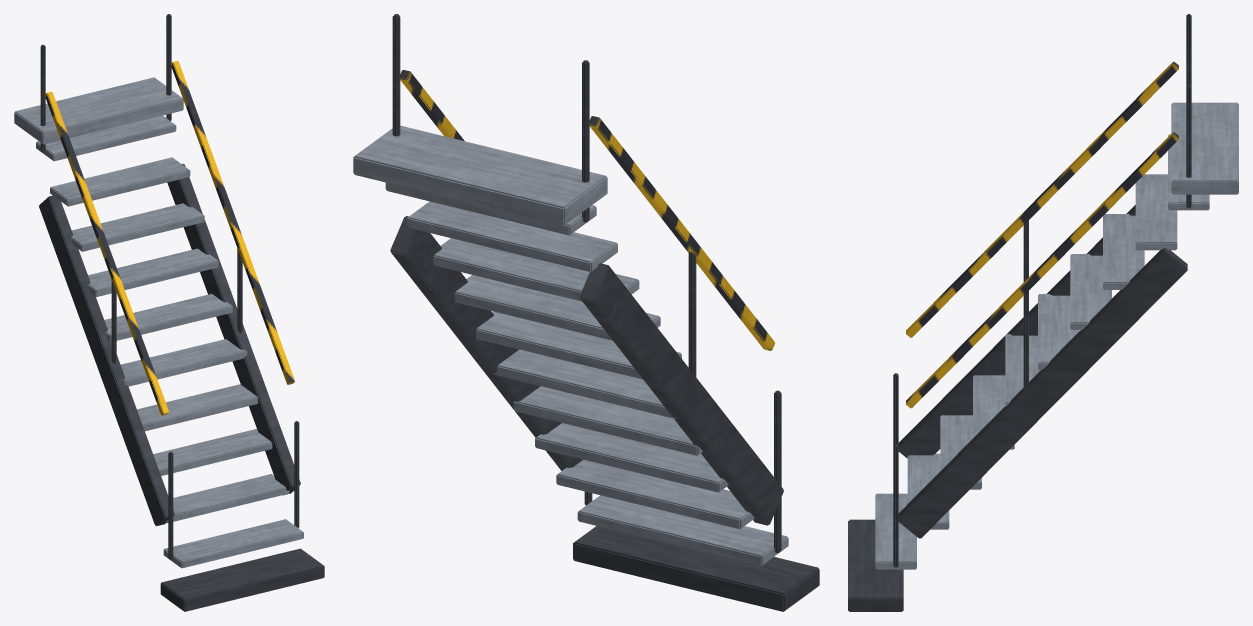
The model's file is stairs_metal.glb.
3 renders of one model, left to right at view 1: azimuth 30°, elevation 25°; view 2: azimuth 150°, elevation 25°; view 3: azimuth 270°, elevation 25°, orthographic. The views are drawn at different scales.
Visible parts, largest first — view 1: stairs_metal; view 2: stairs_metal; view 3: stairs_metal.
Boxes of the visible parts, box(x1,y1,x2,y2) form: stairs_metal: box(14, 14, 324, 611); stairs_metal: box(353, 14, 819, 611); stairs_metal: box(848, 14, 1238, 611).
Bounding box in the file's own units: 0.94 × 2.91 × 1.97.
3 materials, 3 textured.
